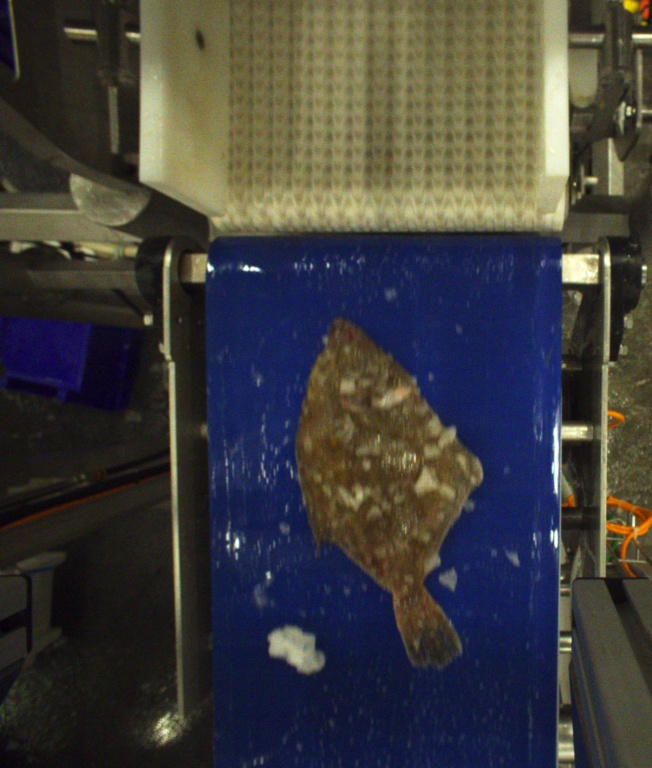PLE: (298, 316, 486, 669)
